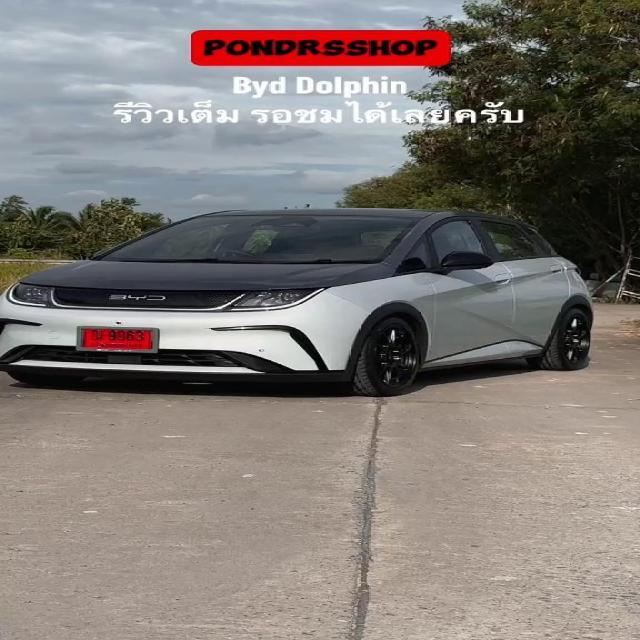Hatchback: (0, 208, 593, 396)
